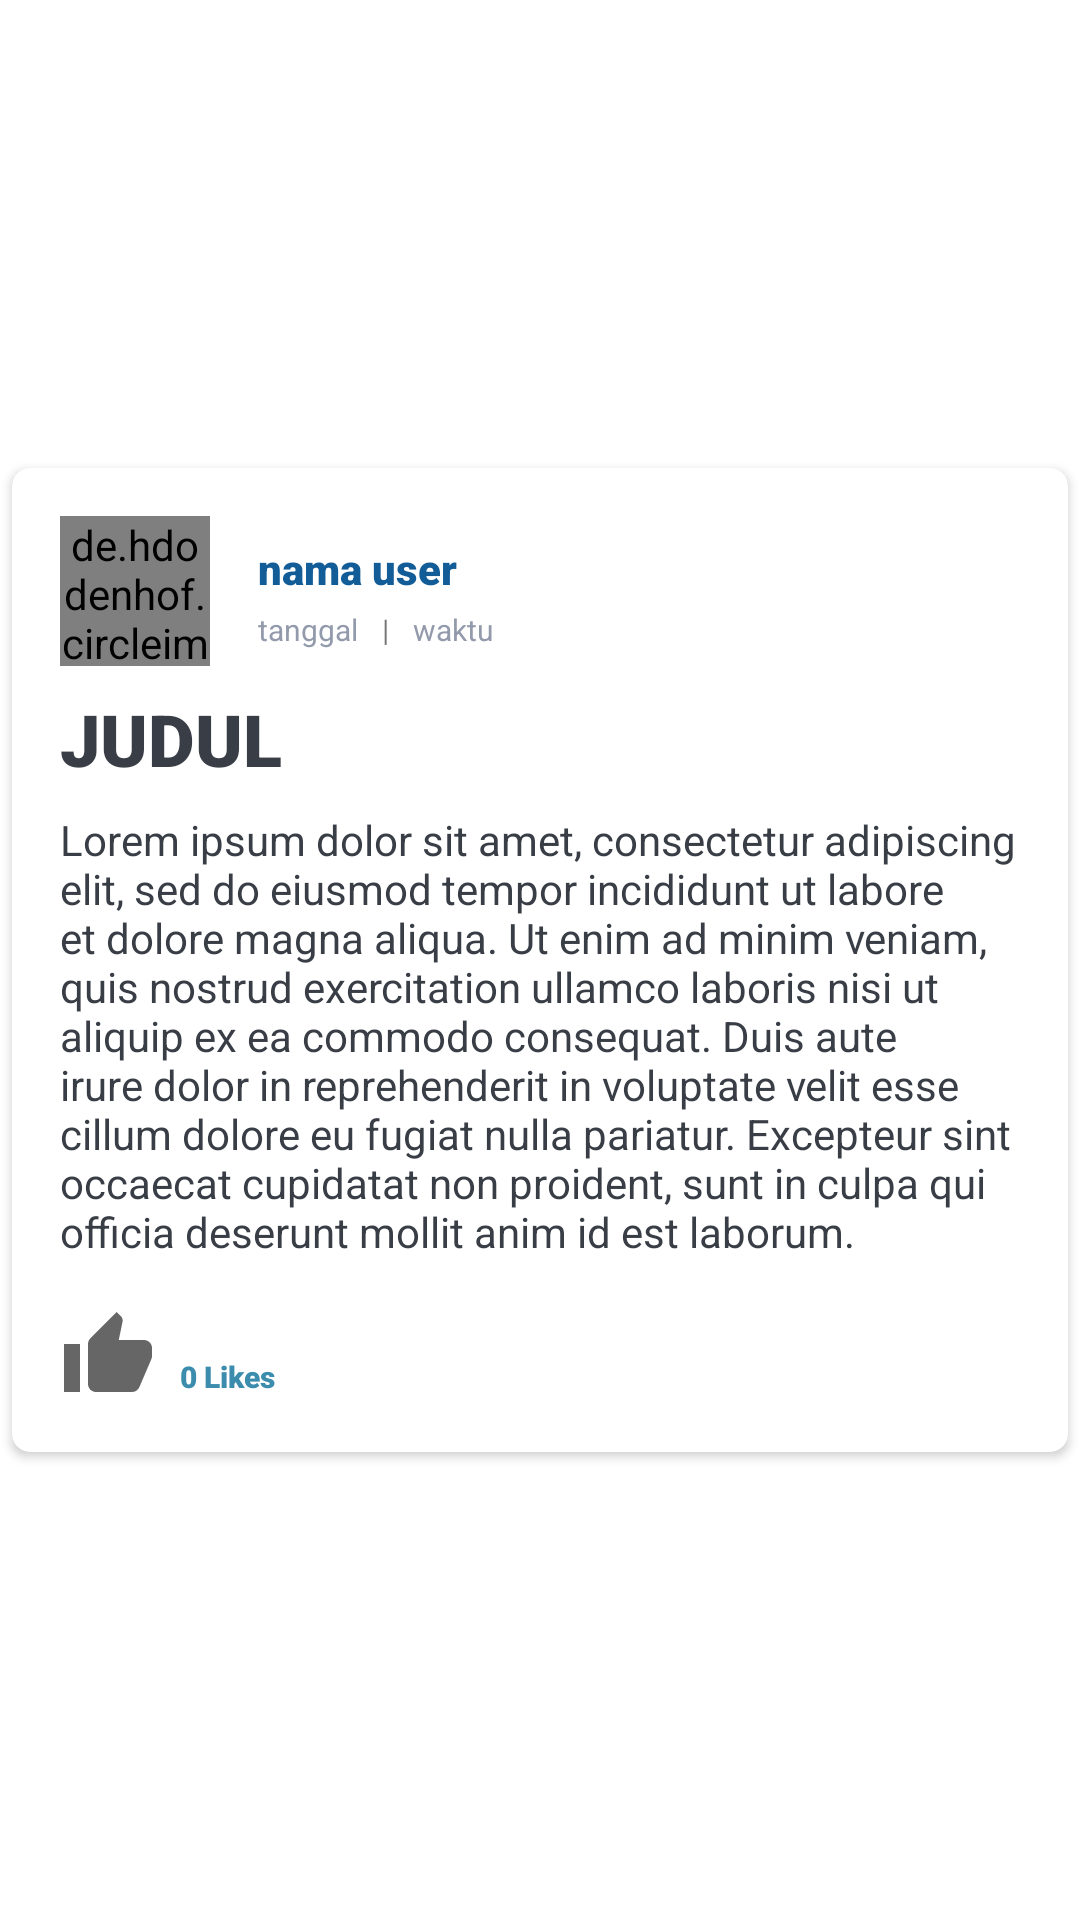

Point at icon controls on the screen. Image size 1080px x 1920px, points as (x=x, y=y).
thumb up: (x=108, y=1352)
